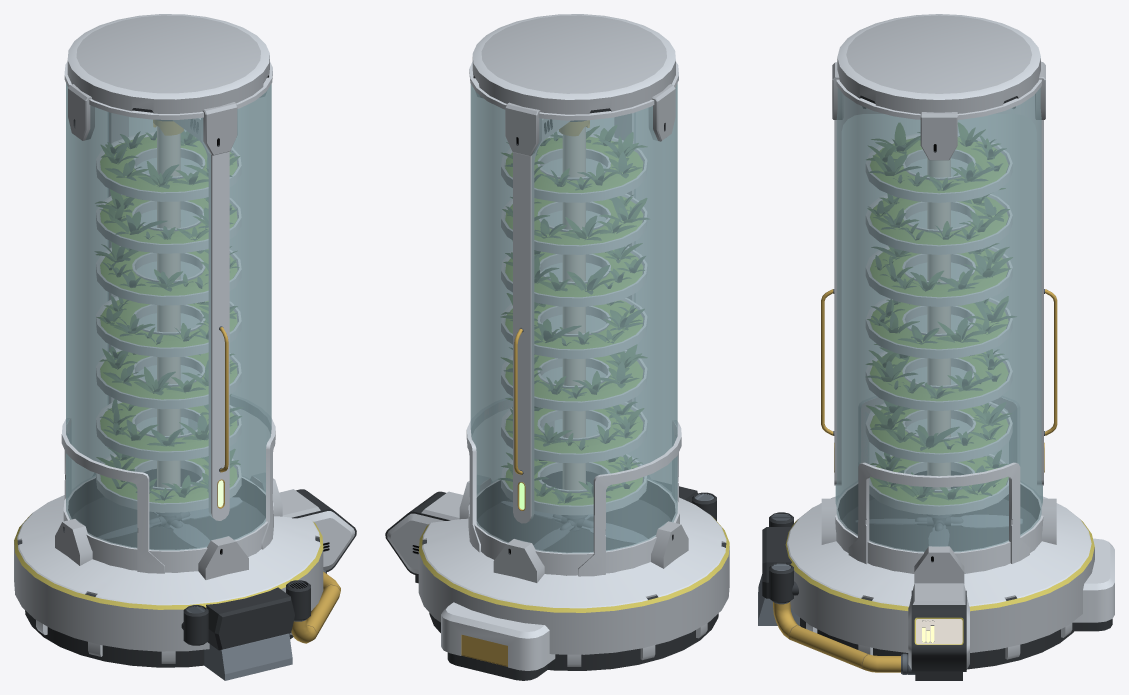
Rendered from OxygenFarm.fbx.
3 renders of one model, left to right at view 1: azimuth 30°, elevation 25°; view 2: azimuth 150°, elevation 25°; view 3: azimuth 270°, elevation 25°, orthographic.
Parts seen in each view (by area): view 1: Glass, Cylinder.009, Cylinder.002, Cylinder.022, Cylinder, Plane, Cylinder.006, Cylinder.008, Cylinder.005, Cube.011, Plane.005, Cube.012 (+12 smaller); view 2: Glass, Cylinder.009, Cylinder.002, Cylinder.022, Cylinder, Plane, Cylinder.006, Cylinder.005, Cylinder.008, Cube.001, Plane.005, Cylinder.020 (+12 smaller); view 3: Glass, Cylinder.009, Cylinder.002, Cylinder, Cylinder.022, Plane, Plane.005, Cylinder.006, Cylinder.005, Cylinder.008, Cube, Plane.008 (+14 smaller).
Part boxes in pixels (bbox=[...]): Glass: bbox=[66, 83, 271, 550]; Cylinder.009: bbox=[96, 132, 241, 512]; Cylinder.002: bbox=[67, 14, 269, 113]; Cylinder.022: bbox=[17, 495, 320, 605]; Cylinder: bbox=[14, 514, 323, 651]; Plane: bbox=[109, 112, 229, 520]; Cylinder.006: bbox=[63, 469, 273, 572]; Cylinder.008: bbox=[157, 126, 180, 487]; Cylinder.005: bbox=[72, 497, 265, 549]; Cube.011: bbox=[206, 587, 294, 650]; Plane.005: bbox=[61, 418, 275, 573]; Cube.012: bbox=[204, 633, 292, 680]; Glass: bbox=[470, 83, 677, 553]; Cylinder.009: bbox=[501, 133, 646, 514]; Cylinder.002: bbox=[472, 14, 675, 114]; Cylinder.022: bbox=[422, 497, 726, 608]; Cylinder: bbox=[418, 516, 729, 654]; Plane: bbox=[513, 113, 634, 523]; Cylinder.006: bbox=[468, 471, 679, 575]; Cylinder.005: bbox=[477, 499, 671, 552]; Cylinder.008: bbox=[563, 127, 585, 489]; Cube.001: bbox=[441, 602, 555, 670]; Plane.005: bbox=[466, 397, 681, 576]; Cylinder.020: bbox=[429, 613, 718, 670]; Glass: bbox=[835, 88, 1042, 552]; Cylinder.009: bbox=[866, 133, 1012, 514]; Cylinder.002: bbox=[837, 14, 1040, 113]; Cylinder: bbox=[785, 519, 1094, 652]; Cylinder.022: bbox=[787, 496, 1091, 606]; Plane: bbox=[834, 95, 1043, 485]; Plane.005: bbox=[848, 397, 1029, 564]; Cylinder.006: bbox=[835, 471, 1043, 573]; Cylinder.005: bbox=[842, 499, 1036, 551]; Cylinder.008: bbox=[927, 158, 950, 489]; Cube: bbox=[911, 590, 966, 671]; Plane.008: bbox=[773, 602, 900, 672].
Size of the model in its own units: 348 by 595 by 347.
